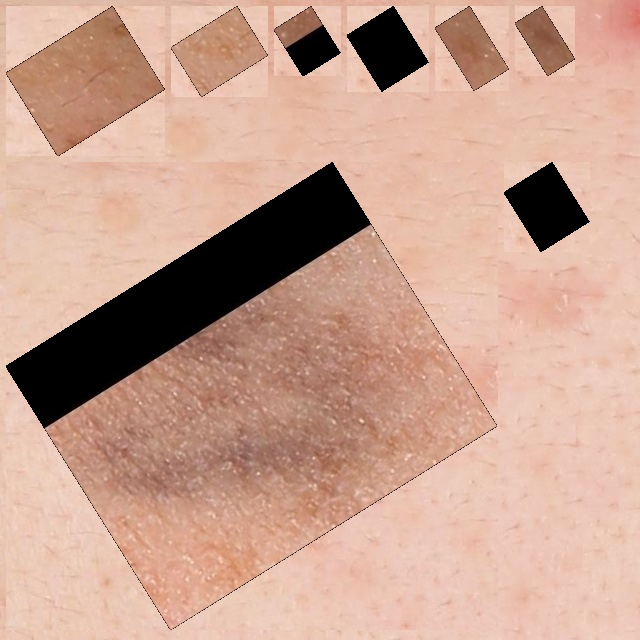melasma: (17, 17, 154, 145), (182, 17, 257, 85), (515, 173, 578, 241), (358, 17, 418, 80), (446, 17, 498, 79), (285, 17, 329, 65), (526, 17, 564, 65)
